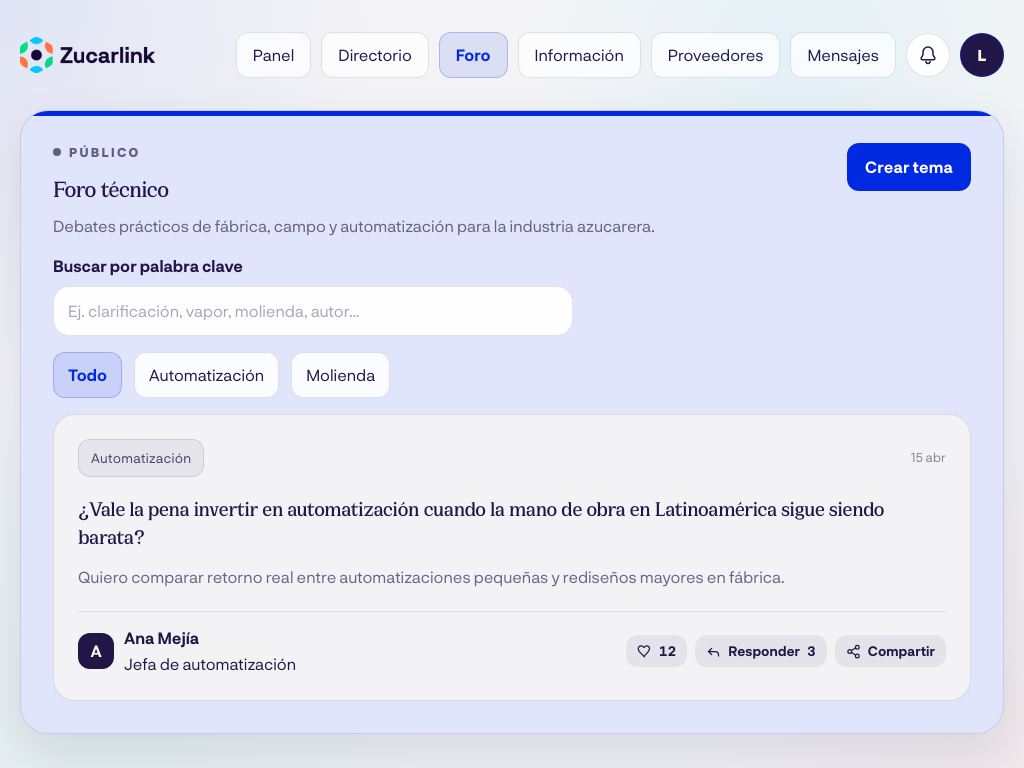
Test case: lets an authenticated member like a thread from the listing
Click the button named "Me gusta" at (657, 651), box [626,635,687,667]
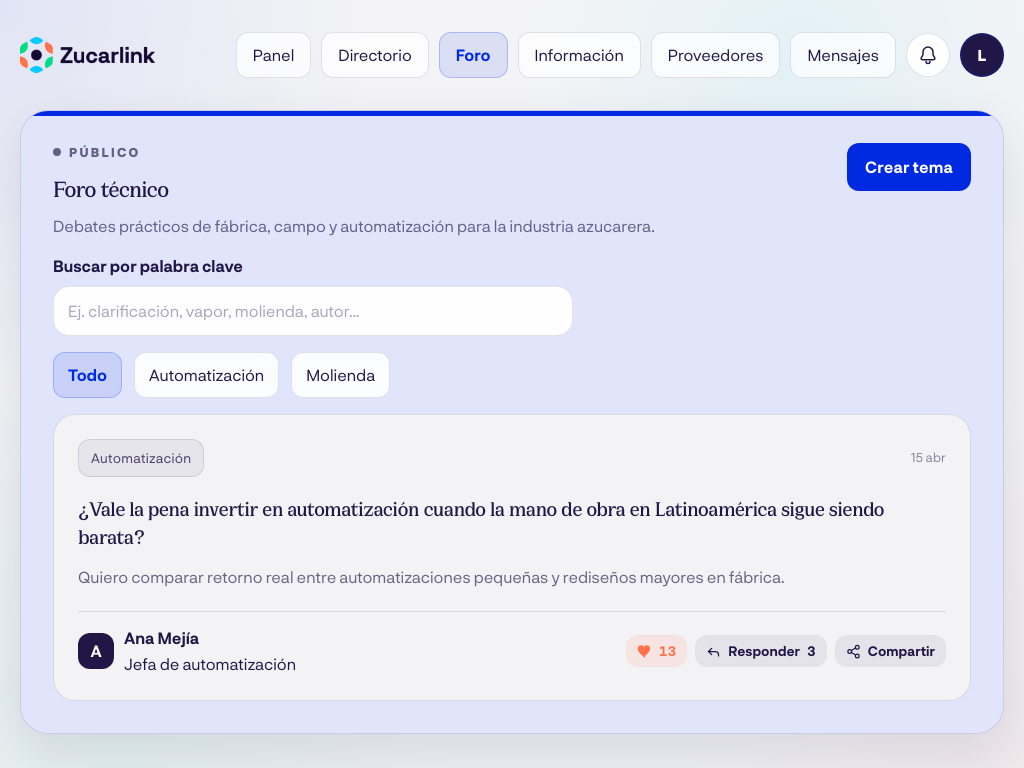
Result: the button named "Quitar me gusta" reads "13" at [626,635,687,667]
